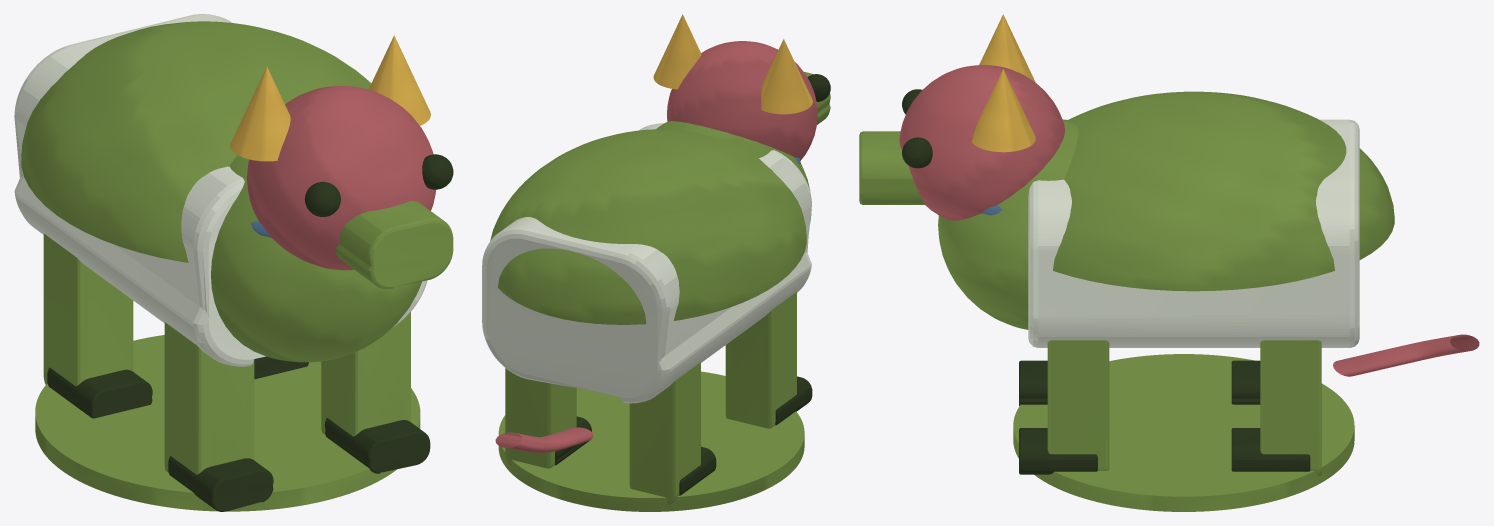
Rendered from 1282_爬行动物图鉴_犰狳蜥.glb.
3 views of the same model, side by side, from view 1: azimuth 30°, elevation 25°; view 2: azimuth 150°, elevation 25°; view 3: azimuth 270°, elevation 25° (orthographic). The views are drawn at different scales.
Parts seen in each view (by area): view 1: card_1282; view 2: card_1282; view 3: card_1282.
Part boxes in pixels (x1=…): card_1282: x1=14, y1=14, x2=453, y2=511; card_1282: x1=482, y1=14, x2=830, y2=511; card_1282: x1=859, y1=14, x2=1479, y2=511.
Size of the model in its own units: 0.7659 by 1 by 1.41.
